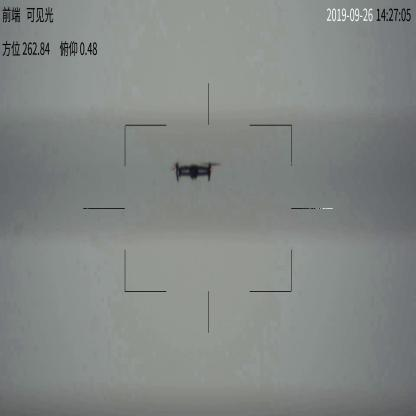uav: (166, 157, 222, 184)
